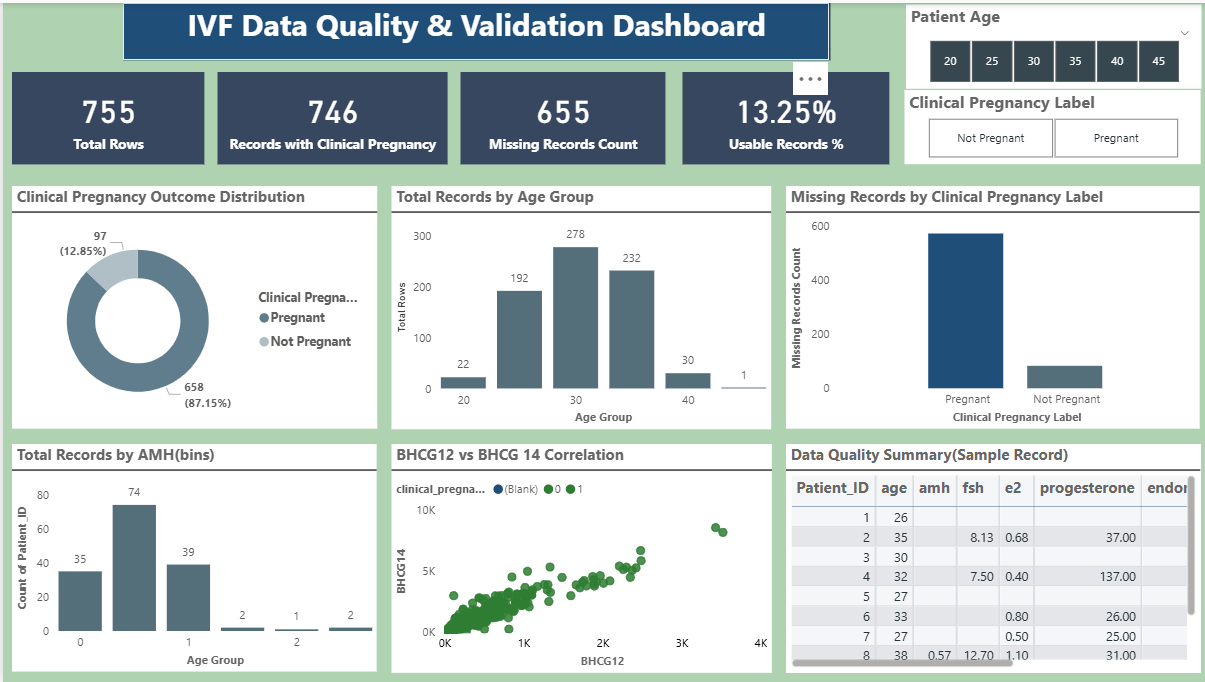

What the dashboard file says about the page in this screenshot:
{"tool":"powerbi","page":{"name":"Data Analyst Dashboard","canvas":[1280,720],"ordinal":4},"visuals":[{"type":"card","fields":{"Values":["ivf_dataset.Total Rows"]},"box":[9.4,73.7,204.1,98.3],"z":0},{"type":"card","fields":{"Values":["ivf_dataset.Usable Records %"]},"box":[720,73.7,219.2,98.3],"z":1000},{"type":"card","fields":{"Values":["ivf_dataset.Records with Clinical Pregnancy"]},"box":[226.8,73.7,243.8,98.3],"z":2000},{"type":"card","fields":{"Values":["ivf_dataset.Missing Key Clinical Data %"]},"box":[485.7,73.7,217.3,98.3],"z":3000},{"type":"clusteredColumnChart","title":"Total Records by Age  Group","fields":{"Category":["ivf_dataset.age (bins)"],"Y":["ivf_dataset.Total Rows"]},"box":[412,194.1,402.4,257.7],"z":4000},{"type":"donutChart","title":"Clinical Pregnancy Outcome Distribution","fields":{"Category":["ivf_dataset.Clinical Pregnancy Label"],"Y":["CountNonNull(ivf_dataset.Patient_ID)"]},"box":[9.7,194.3,387.1,257.5],"z":5000},{"type":"clusteredColumnChart","title":"Total Records by AMH(bins)","fields":{"Category":["ivf_dataset.amh (bins)"],"Y":["CountNonNull(ivf_dataset.Patient_ID)"]},"box":[9.6,467.3,386.9,241.3],"z":6000},{"type":"scatterChart","title":"BHCG12 vs BHCG 14 Correlation","fields":{"X":["ivf_dataset.bhcg_12"],"Y":["ivf_dataset.bhcg_14"],"Series":["ivf_dataset.clinical_pregnancy"]},"box":[411.4,466.9,403.1,242.7],"z":7000},{"type":"clusteredColumnChart","title":"Missing Records by Clinical Pregnancy Label","fields":{"Category":["ivf_dataset.Clinical Pregnancy Label"],"Y":["ivf_dataset.Missing Records Count"]},"box":[830.8,194.3,438.9,257.5],"z":8000},{"type":"tableEx","title":"Data Quality Summary(Sample Record)","fields":{"Values":["ivf_dataset.Patient_ID","ivf_dataset.age","ivf_dataset.amh","ivf_dataset.fsh","ivf_dataset.e2","ivf_dataset.progesterone","ivf_dataset.endometrial_thickness","ivf_dataset.Clinical Pregnancy Label"]},"box":[830.3,467.6,439,241.8],"z":9000},{"type":"slicer","title":"Clinical Pregnancy Label","fields":{"Values":["ivf_dataset.Clinical Pregnancy Label"]},"box":[957.5,90.7,313.4,77.9],"z":10000},{"type":"slicer","title":"Patient Age","fields":{"Values":["ivf_dataset.age (bins)"]},"box":[957.5,1.6,313.4,89.1],"z":11000},{"type":"shape","title":"IVF Data Quality & Validation Dashboard","box":[126.6,0,750.2,60.5],"z":12000}]}

Visuals, with their boxes in screenshot pixels (x1, y1, x2, y2), scaled from the page's 1280x720 canvas onto the 1205x682 screenshot:
card - ivf_dataset.Total Rows: select_region(9, 70, 201, 163)
card - ivf_dataset.Usable Records %: select_region(678, 70, 884, 163)
card - ivf_dataset.Records with Clinical Pregnancy: select_region(214, 70, 443, 163)
card - ivf_dataset.Missing Key Clinical Data %: select_region(457, 70, 662, 163)
"Total Records by Age  Group" clusteredColumnChart: select_region(388, 184, 767, 428)
"Clinical Pregnancy Outcome Distribution" donutChart: select_region(9, 184, 374, 428)
"Total Records by AMH(bins)" clusteredColumnChart: select_region(9, 443, 373, 671)
"BHCG12 vs BHCG 14 Correlation" scatterChart: select_region(387, 442, 767, 672)
"Missing Records by Clinical Pregnancy Label" clusteredColumnChart: select_region(782, 184, 1195, 428)
"Data Quality Summary(Sample Record)" tableEx: select_region(782, 443, 1195, 672)
"Clinical Pregnancy Label" slicer: select_region(901, 86, 1196, 160)
"Patient Age" slicer: select_region(901, 2, 1196, 86)
"IVF Data Quality & Validation Dashboard" shape: select_region(119, 0, 825, 57)
